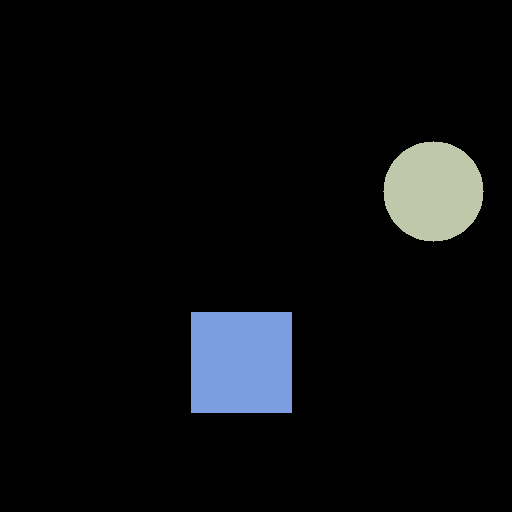circle: (383, 141, 483, 241)
square: (191, 312, 291, 412)
